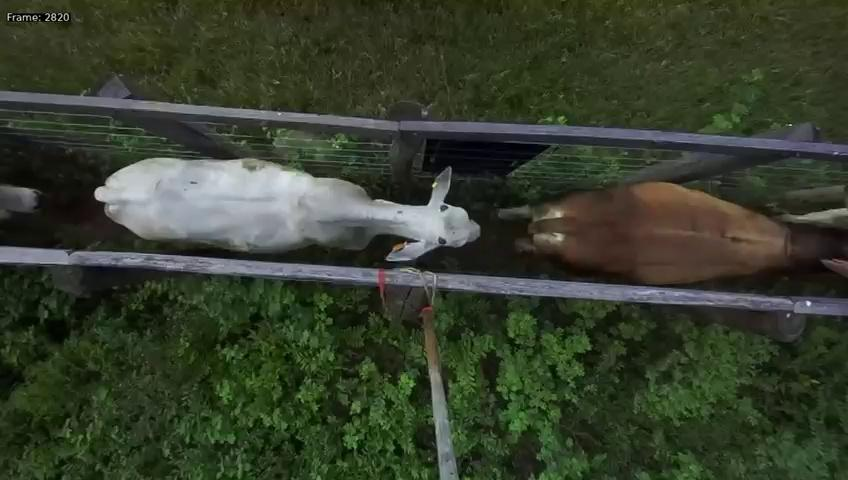cattle: (94, 144, 481, 265), (499, 172, 848, 289)
